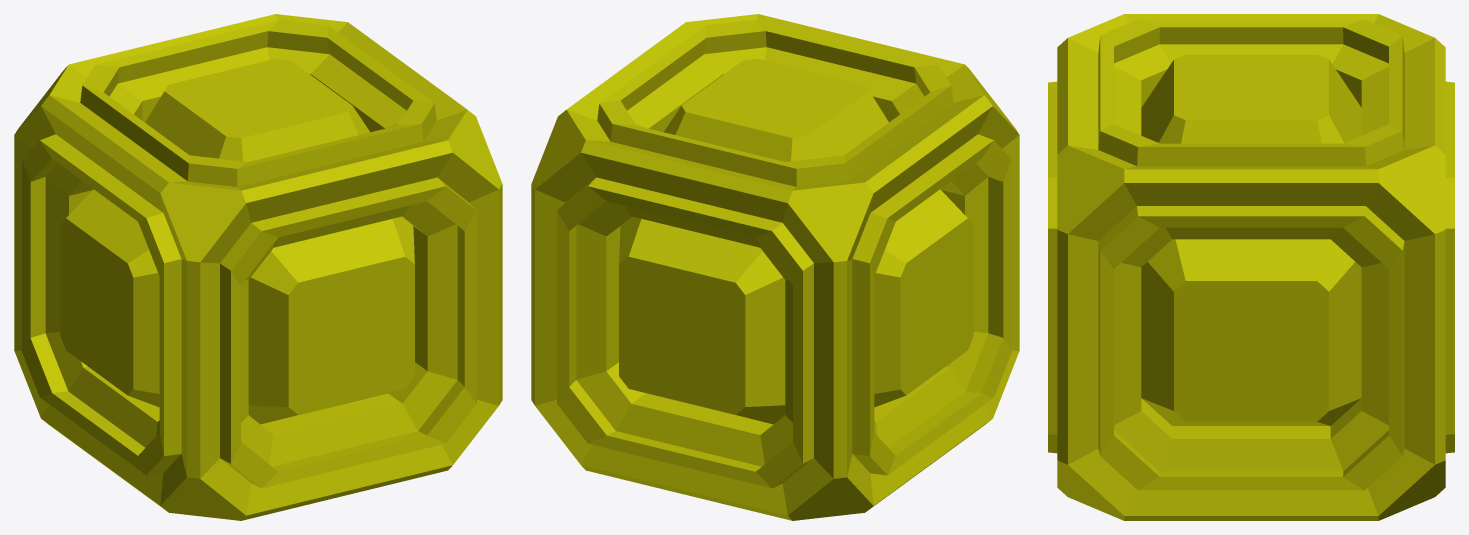
The model's file is Bloc.FBX.
3 views of the same model, side by side, from view 1: azimuth 30°, elevation 25°; view 2: azimuth 150°, elevation 25°; view 3: azimuth 270°, elevation 25° (orthographic). The views are drawn at different scales.
Parts seen in each view (by area): view 1: Box512; view 2: Box512; view 3: Box512.
Part boxes in pixels (left/top/right/bottom): Box512: left=14, top=14, right=502, bottom=520; Box512: left=531, top=14, right=1019, bottom=520; Box512: left=1048, top=14, right=1454, bottom=520.
Bounding box in the file's own units: 1.57 × 1.53 × 1.57.
